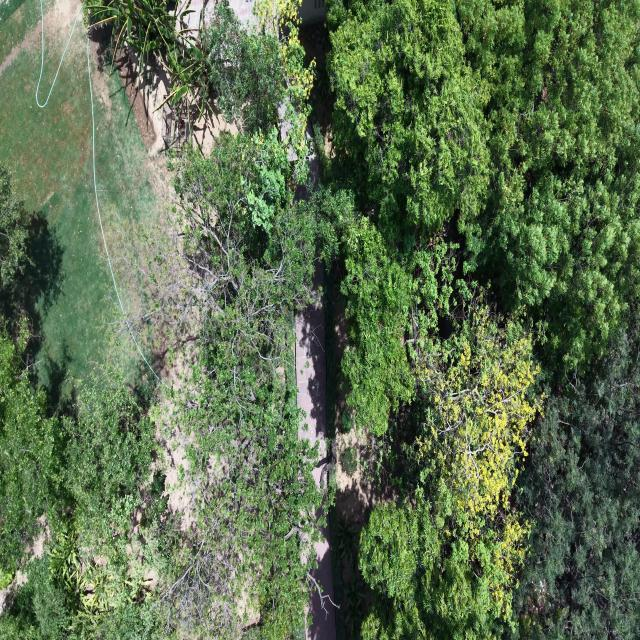DRY_AREA: (0, 0, 139, 386), (0, 0, 137, 386), (295, 296, 330, 490), (296, 300, 328, 486)
VEGETATION_TREE: (0, 0, 639, 639), (316, 0, 639, 638), (0, 3, 322, 638), (328, 0, 638, 371), (163, 5, 321, 637), (166, 134, 321, 637), (456, 0, 639, 371), (359, 296, 541, 639), (0, 0, 137, 404), (0, 326, 175, 638), (415, 296, 542, 619), (328, 0, 488, 250), (515, 320, 639, 638), (85, 0, 312, 157), (86, 0, 304, 130), (302, 188, 413, 435), (359, 496, 493, 639), (0, 323, 59, 579), (200, 2, 285, 131), (0, 163, 30, 288)
